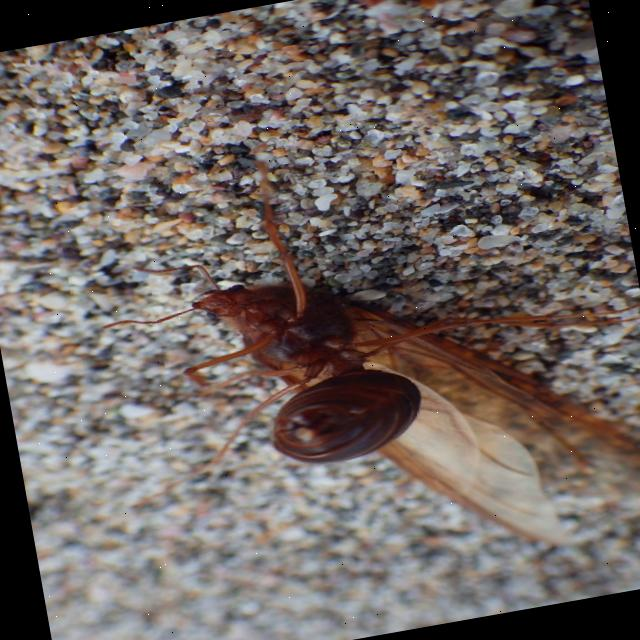Dead-Male-Alate: (75, 98, 640, 619)
